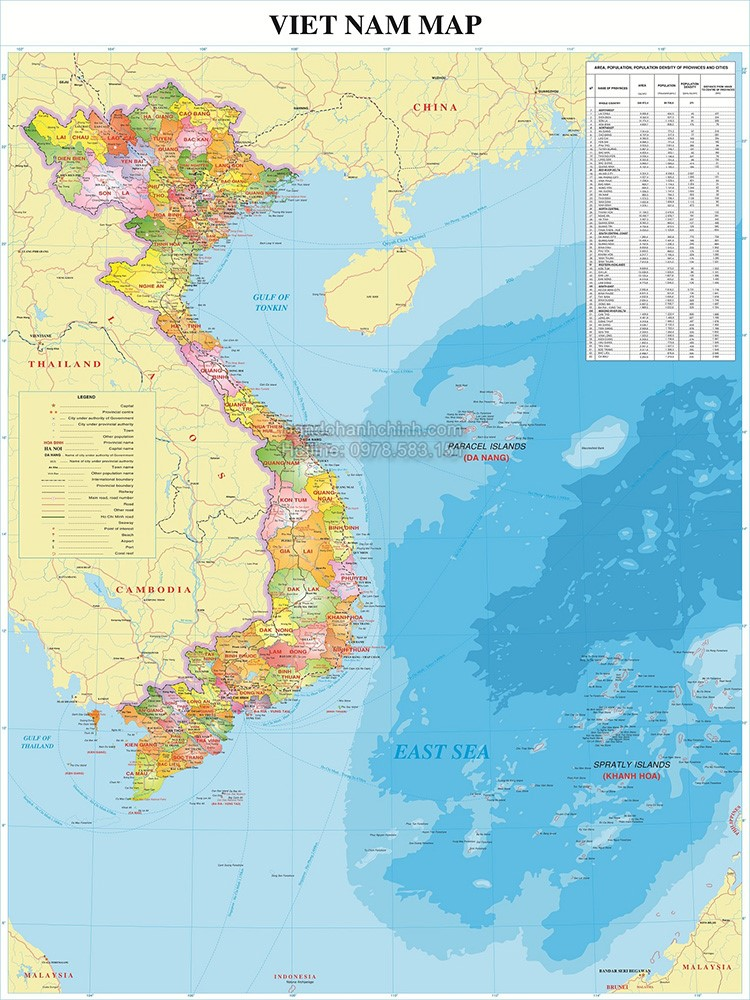Island: (495, 645, 739, 868), (439, 371, 549, 474)
